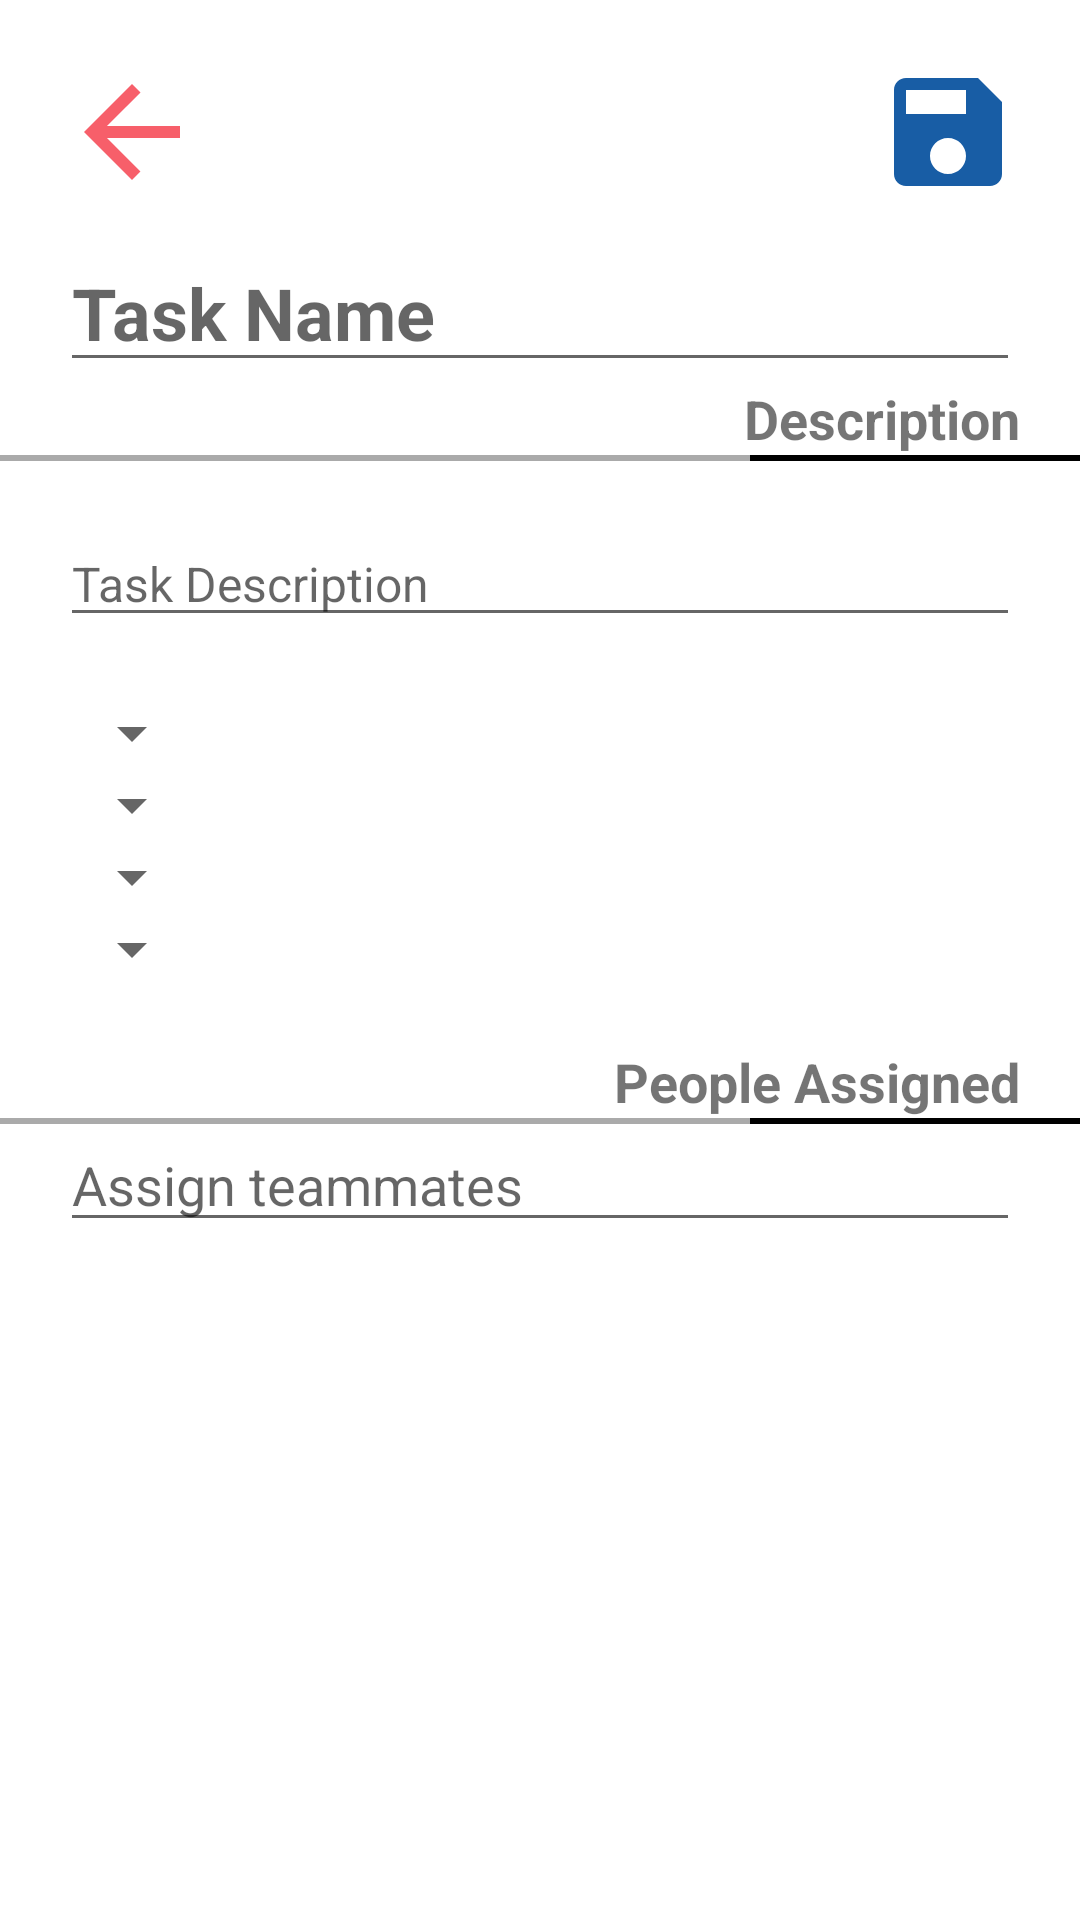

Screen size 1080×1920. Icon name, then its center in pixels as (x,y):
arrow back: (132,132)
save: (948,132)
